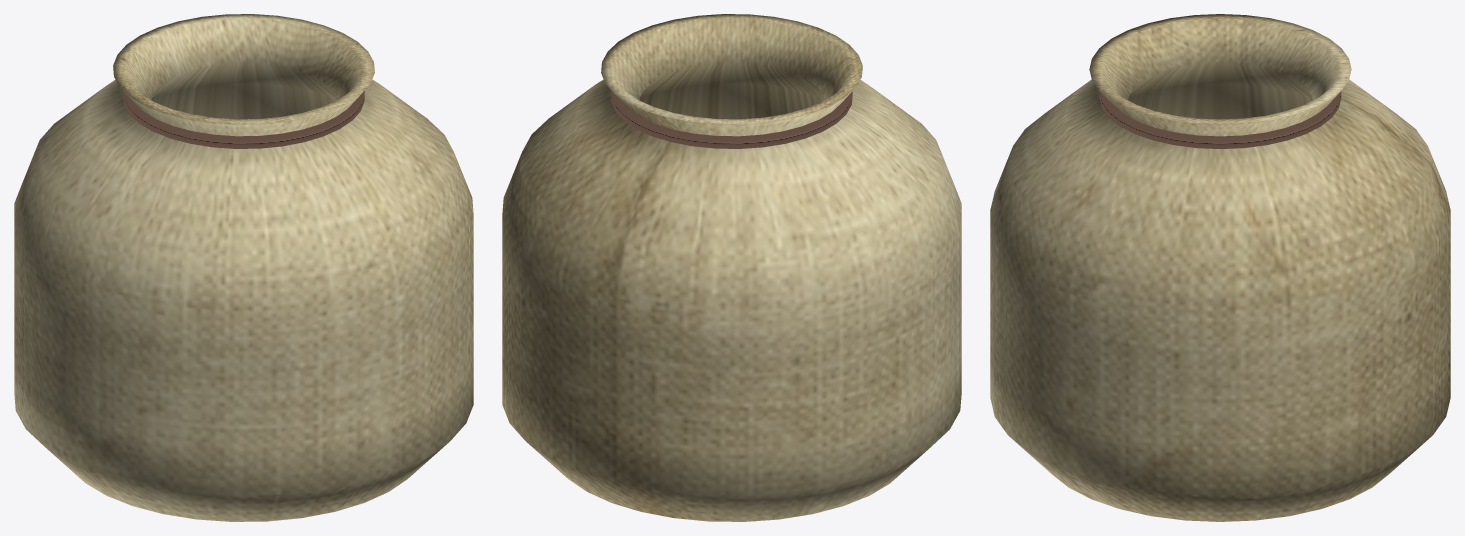
3 renders of one model, left to right at view 1: azimuth 30°, elevation 25°; view 2: azimuth 150°, elevation 25°; view 3: azimuth 270°, elevation 25°, orthographic.
Visible parts, largest first — view 1: 円柱, 円柱.001; view 2: 円柱, 円柱.001; view 3: 円柱, 円柱.001.
Part boxes in pixels (<box>): 円柱: <box>14,14,473,521</box>; 円柱.001: <box>123,91,364,148</box>; 円柱: <box>502,14,961,521</box>; 円柱.001: <box>611,91,852,148</box>; 円柱: <box>990,14,1450,521</box>; 円柱.001: <box>1099,91,1341,148</box>.
Bounding box in the file's own units: 0.8 × 0.72 × 0.8.
Materials: 2 (1 with a texture image).
